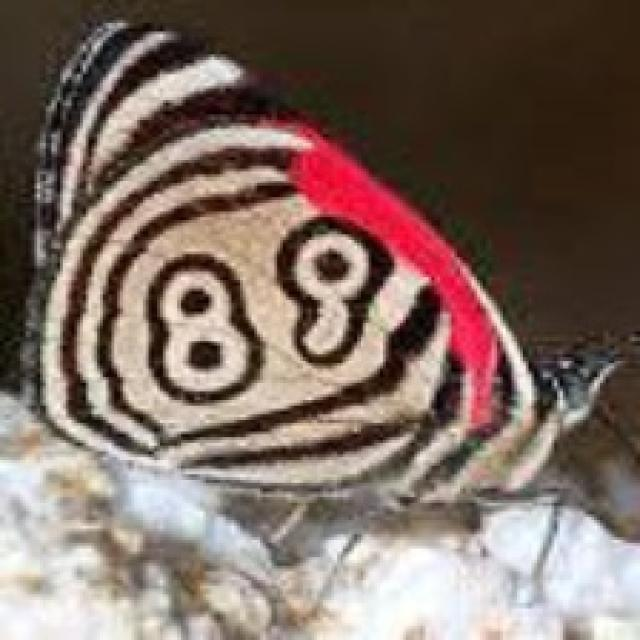butterfly: (14, 11, 637, 580)
